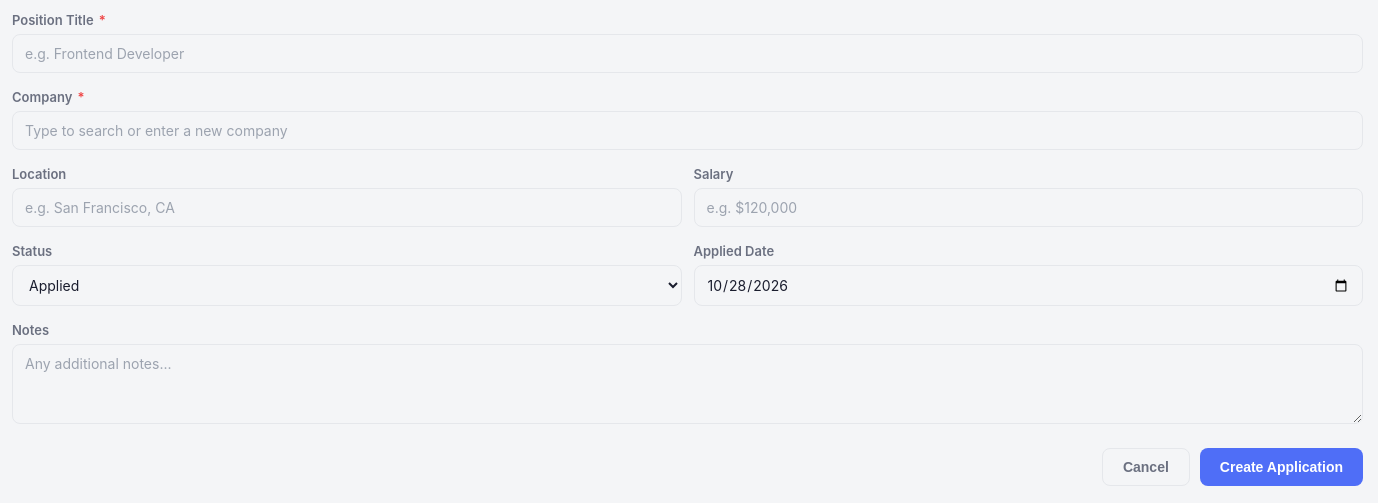
ApplicationForm while fixing mistakes › fills in the company's location when one is picked and location is empty
The width and height of the screenshot is (1378, 503).
Wait for the company list to load before typing
Type "Ac" into the field with placeholder "Type to search or enter a new company".
click(688, 130); type("Ac")  # box [12,111,1363,150]
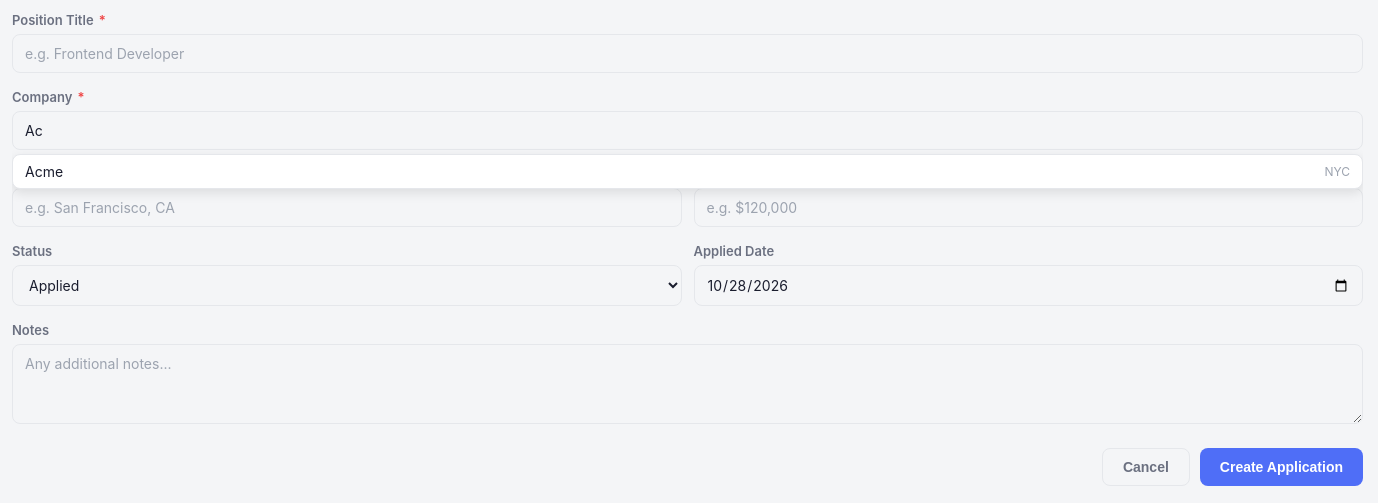
Press the mouse on the text "Acme" at (44, 172), box [25,163,1350,180]
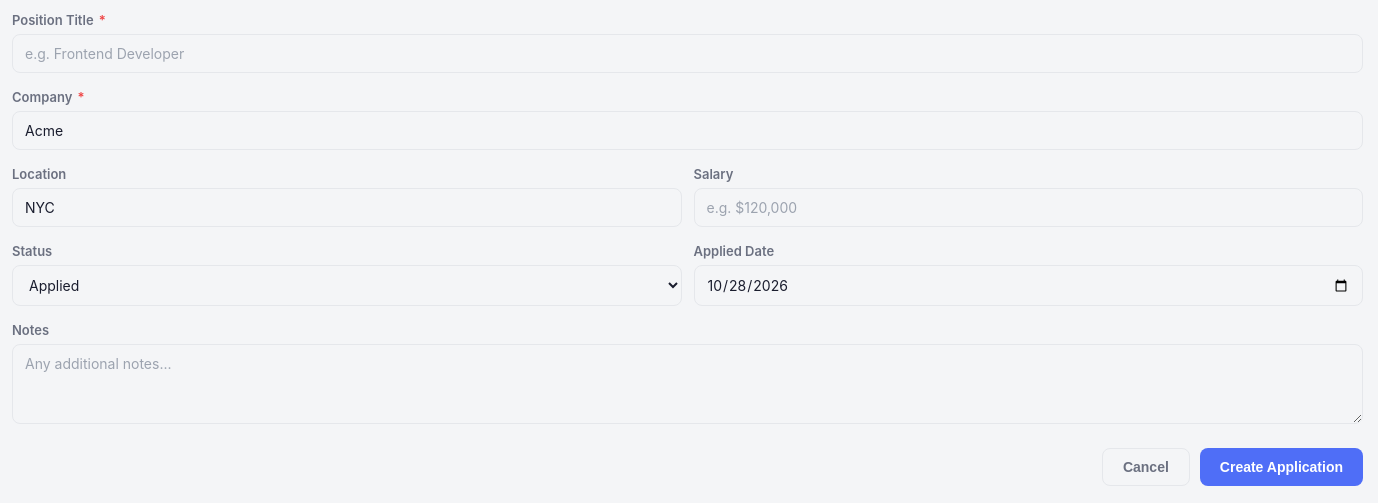
Now the field with placeholder "e.g. San Francisco, CA" below "Location" holds "NYC", box [12,188,682,227]
